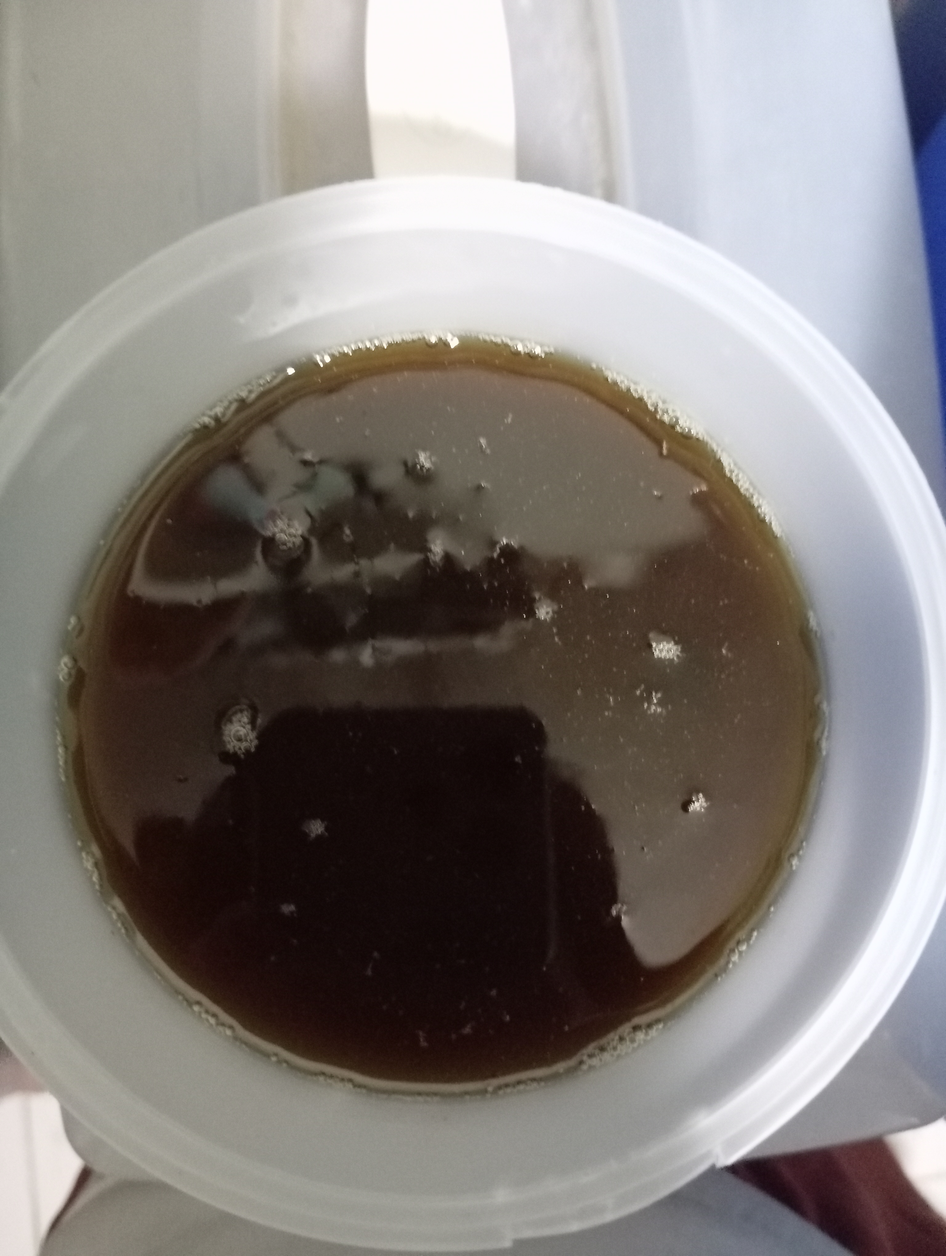non-reusable: (68, 339, 822, 1087)
